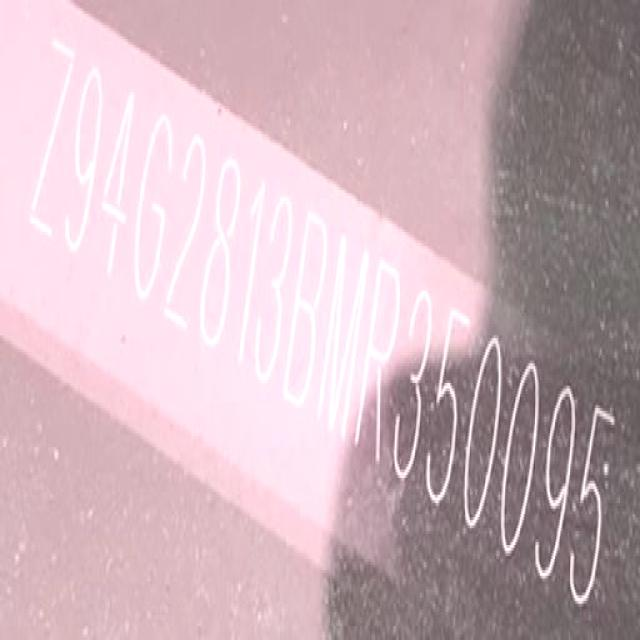0: (487, 346, 551, 577), (454, 325, 514, 553)
1: (228, 168, 273, 381)
2: (159, 123, 216, 350)
3: (383, 276, 442, 506), (246, 181, 300, 401)
4: (88, 77, 147, 292)
5: (562, 388, 622, 623), (418, 299, 477, 524)
8: (190, 145, 247, 365)
9: (527, 367, 587, 604), (52, 53, 112, 278)
B: (277, 206, 335, 427)
G: (122, 101, 180, 323)
M: (310, 219, 377, 454)
R: (350, 249, 410, 478)
Z: (18, 32, 82, 253)
